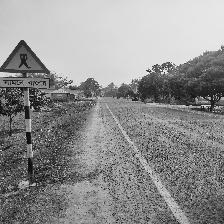Market-in-front: (0, 40, 51, 88)
